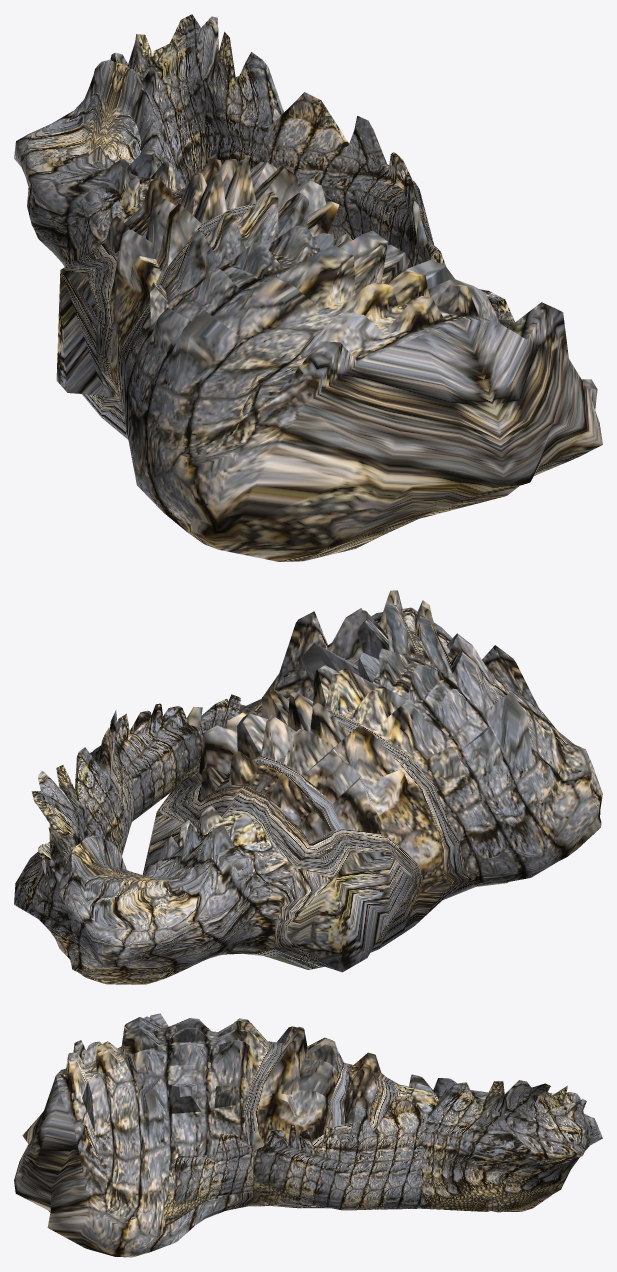
File: disfrazCrocodilo.fbx
3 views of the same model, one above another, from view 1: azimuth 30°, elevation 25°; view 2: azimuth 150°, elevation 25°; view 3: azimuth 270°, elevation 25° (orthographic). The views are drawn at different scales.
Visible parts, largest first — view 1: Cylinder.001; view 2: Cylinder.001; view 3: Cylinder.001.
Boxes of the visible parts, box(x1,y1,x2,y2) form: Cylinder.001: box(14, 14, 602, 561); Cylinder.001: box(14, 590, 602, 984); Cylinder.001: box(14, 1013, 602, 1257).
Bounding box in the file's own units: 1013 × 644 × 1796.
